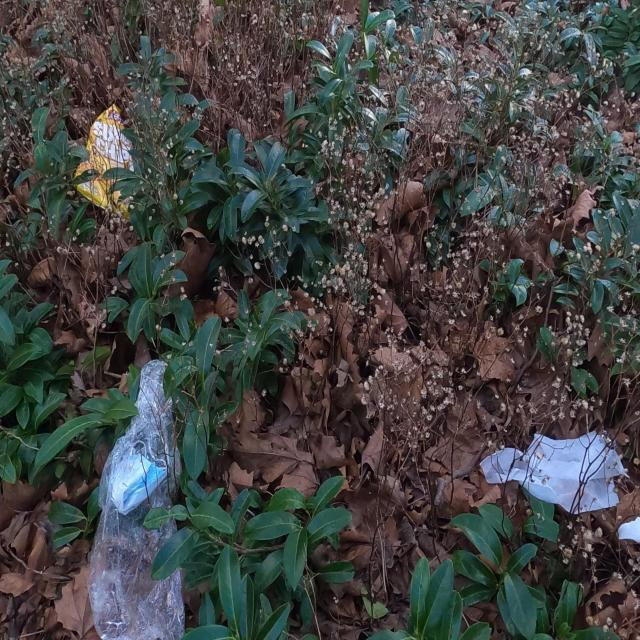Mask: (106, 440, 170, 516)
Paper: (479, 428, 630, 516), (618, 516, 640, 542)
Plastic: (72, 103, 135, 228)
